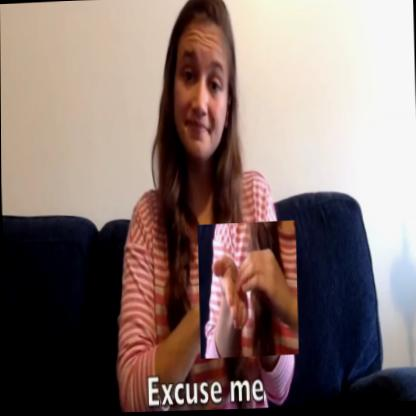ExcuseMe: (197, 222, 298, 359)
